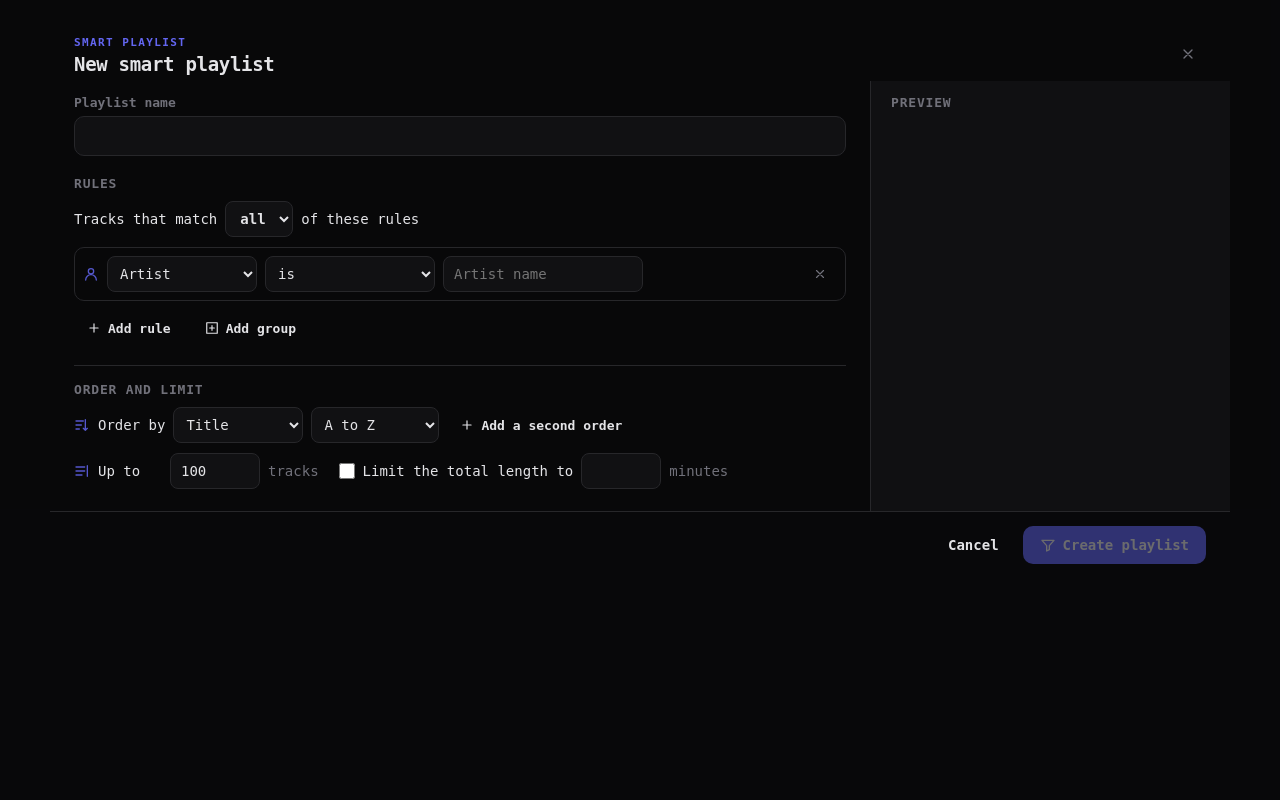
Test: SmartPlaylistEditor › marks wrong values instead of saving
This screenshot has width=1280, height=800.
Step 1. Type "Empty" into the field labelled "Playlist name" → (460, 136), box [74,116,846,156]
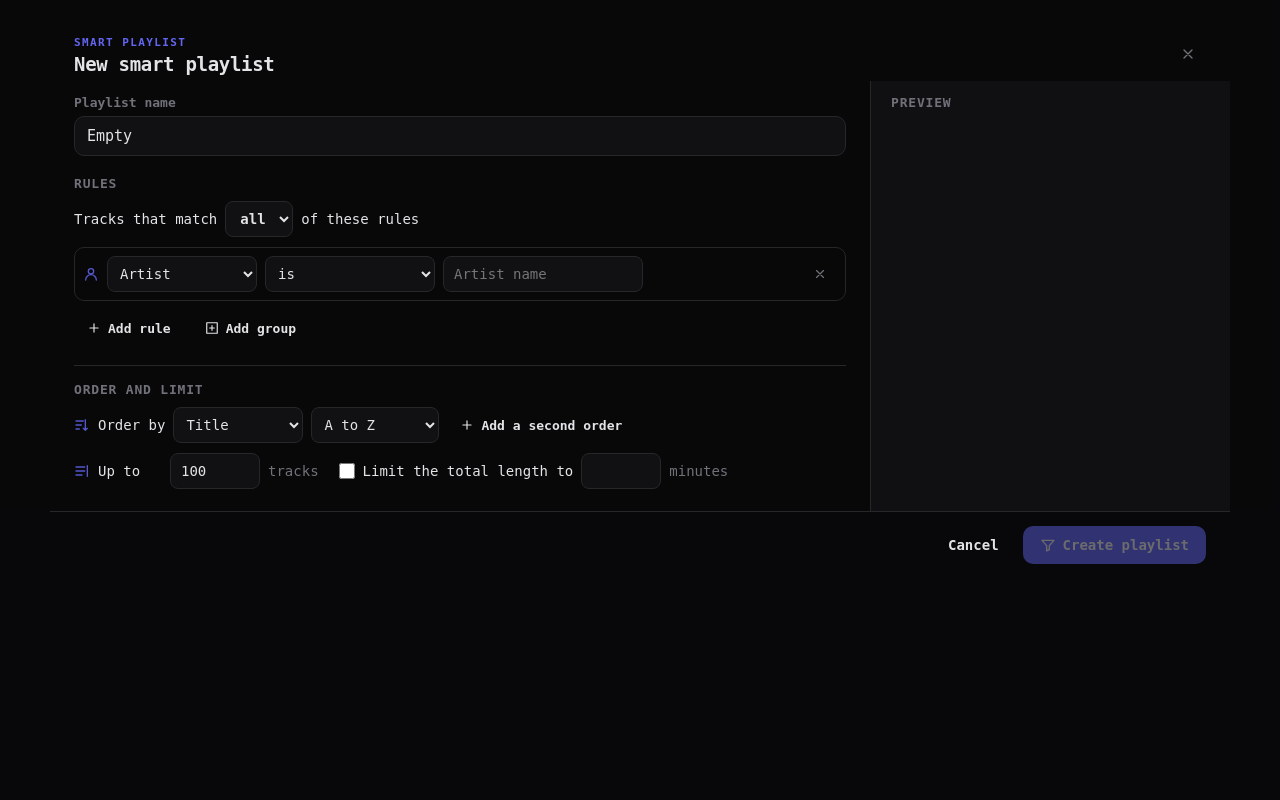
Step 2. Click the button "Create playlist" → (1114, 545), box [1023,526,1206,564]
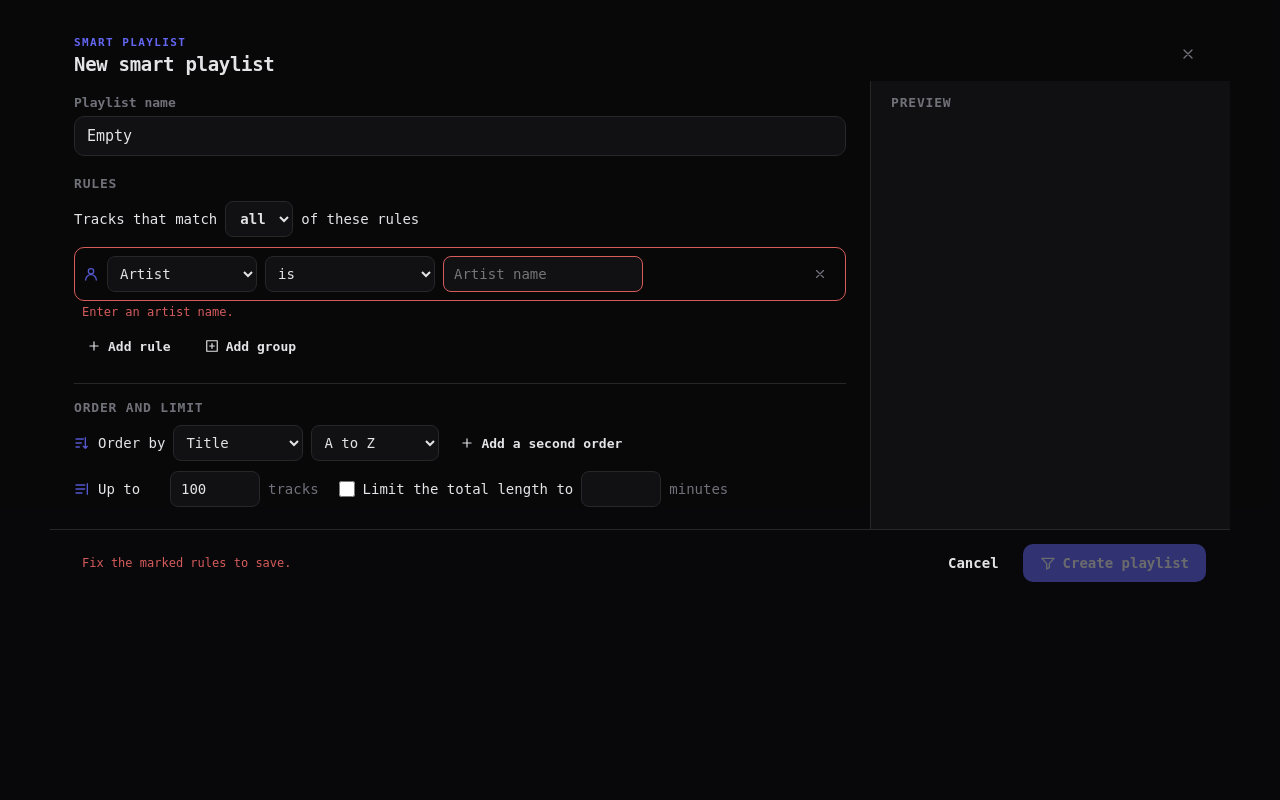
Expected: the button named "Remove rule" is disabled, [803,257,837,291]
Result: the text "Enter an artist name." is shown at [82,305,234,319]
Result: the text "Fix the marked rules to save." is shown at [74,556,292,570]
